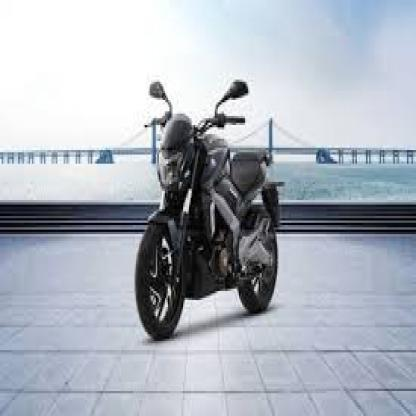Motorcycle: (124, 63, 284, 339)
